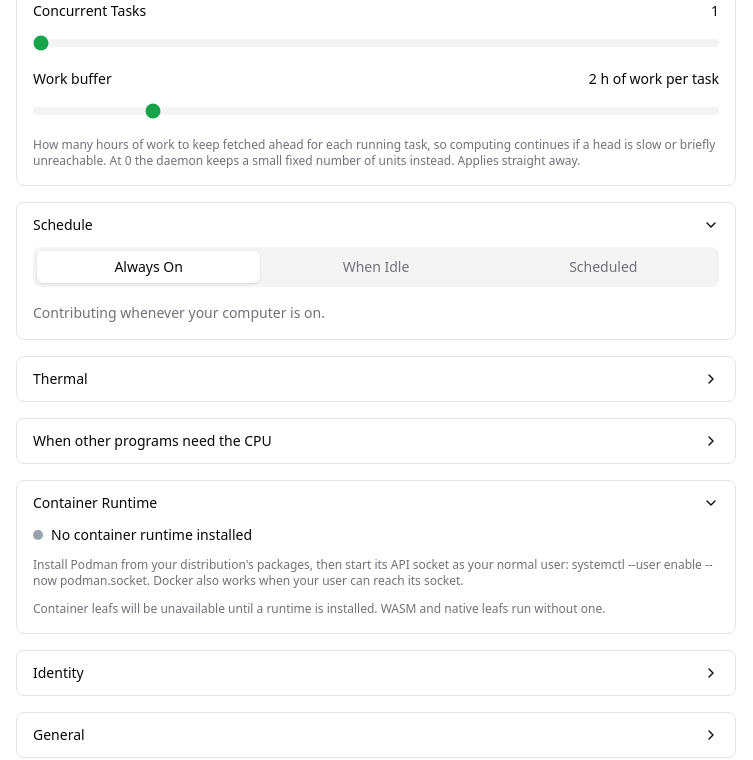
Test case: SettingsPage › shows no thermal caption for a daemon that does not report the CPU source
The width and height of the screenshot is (753, 760).
(page scrolled)
Step 1. Click the button "Thermal" → (60, 378), box 17,357 -> 735,401
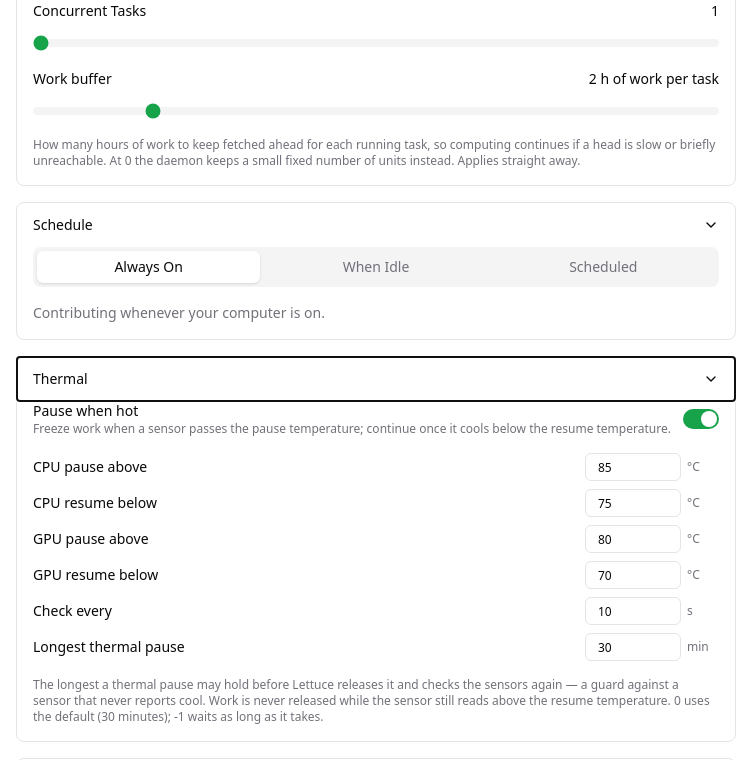
Result: the number field labelled "CPU pause above" is enabled at 585,453 -> 681,481
